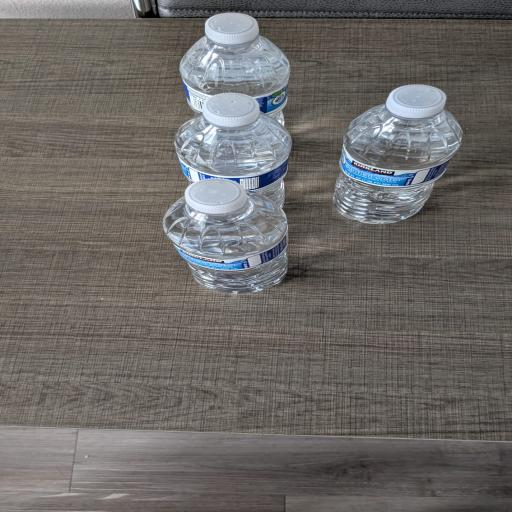waterbottle: (334, 85, 462, 223), (163, 179, 287, 293), (175, 93, 291, 205), (180, 13, 289, 123)
